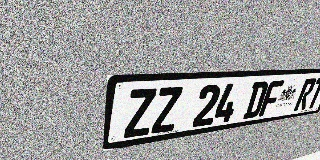2: (192, 84, 222, 127)
4: (213, 83, 241, 124)
D: (242, 81, 270, 119)
F: (258, 80, 285, 117)
R: (293, 78, 317, 111)
T: (305, 77, 320, 109)
Z: (124, 88, 157, 138), (151, 86, 183, 134)
